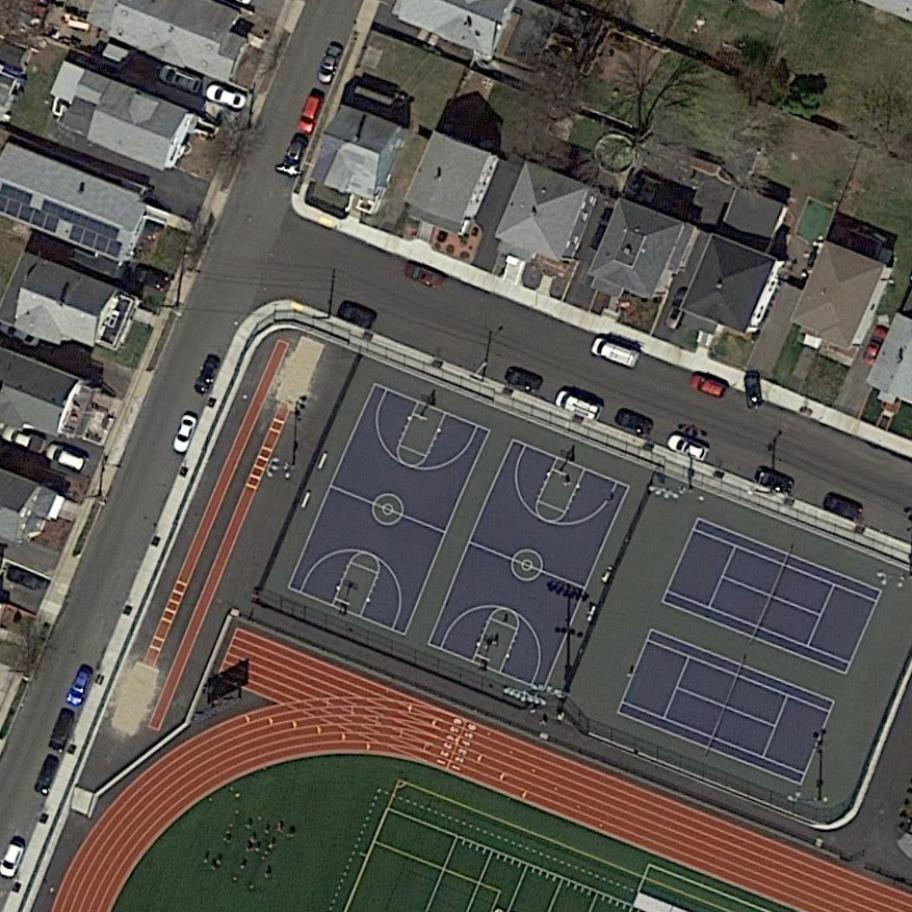small-vehicle: (584, 335, 645, 373), (552, 387, 608, 425), (42, 439, 93, 479), (660, 429, 713, 466), (747, 462, 800, 497), (61, 661, 98, 711), (0, 421, 50, 457), (44, 707, 78, 757), (191, 350, 225, 398), (157, 63, 204, 97), (501, 363, 549, 396), (293, 92, 327, 138), (313, 41, 346, 88), (610, 406, 656, 439), (1, 564, 48, 596), (400, 262, 447, 294), (202, 80, 248, 112), (168, 413, 200, 459), (31, 753, 62, 799), (820, 492, 866, 523), (337, 302, 382, 333), (685, 372, 730, 403), (860, 322, 891, 366), (280, 131, 312, 171), (0, 843, 28, 881), (742, 372, 764, 409)
